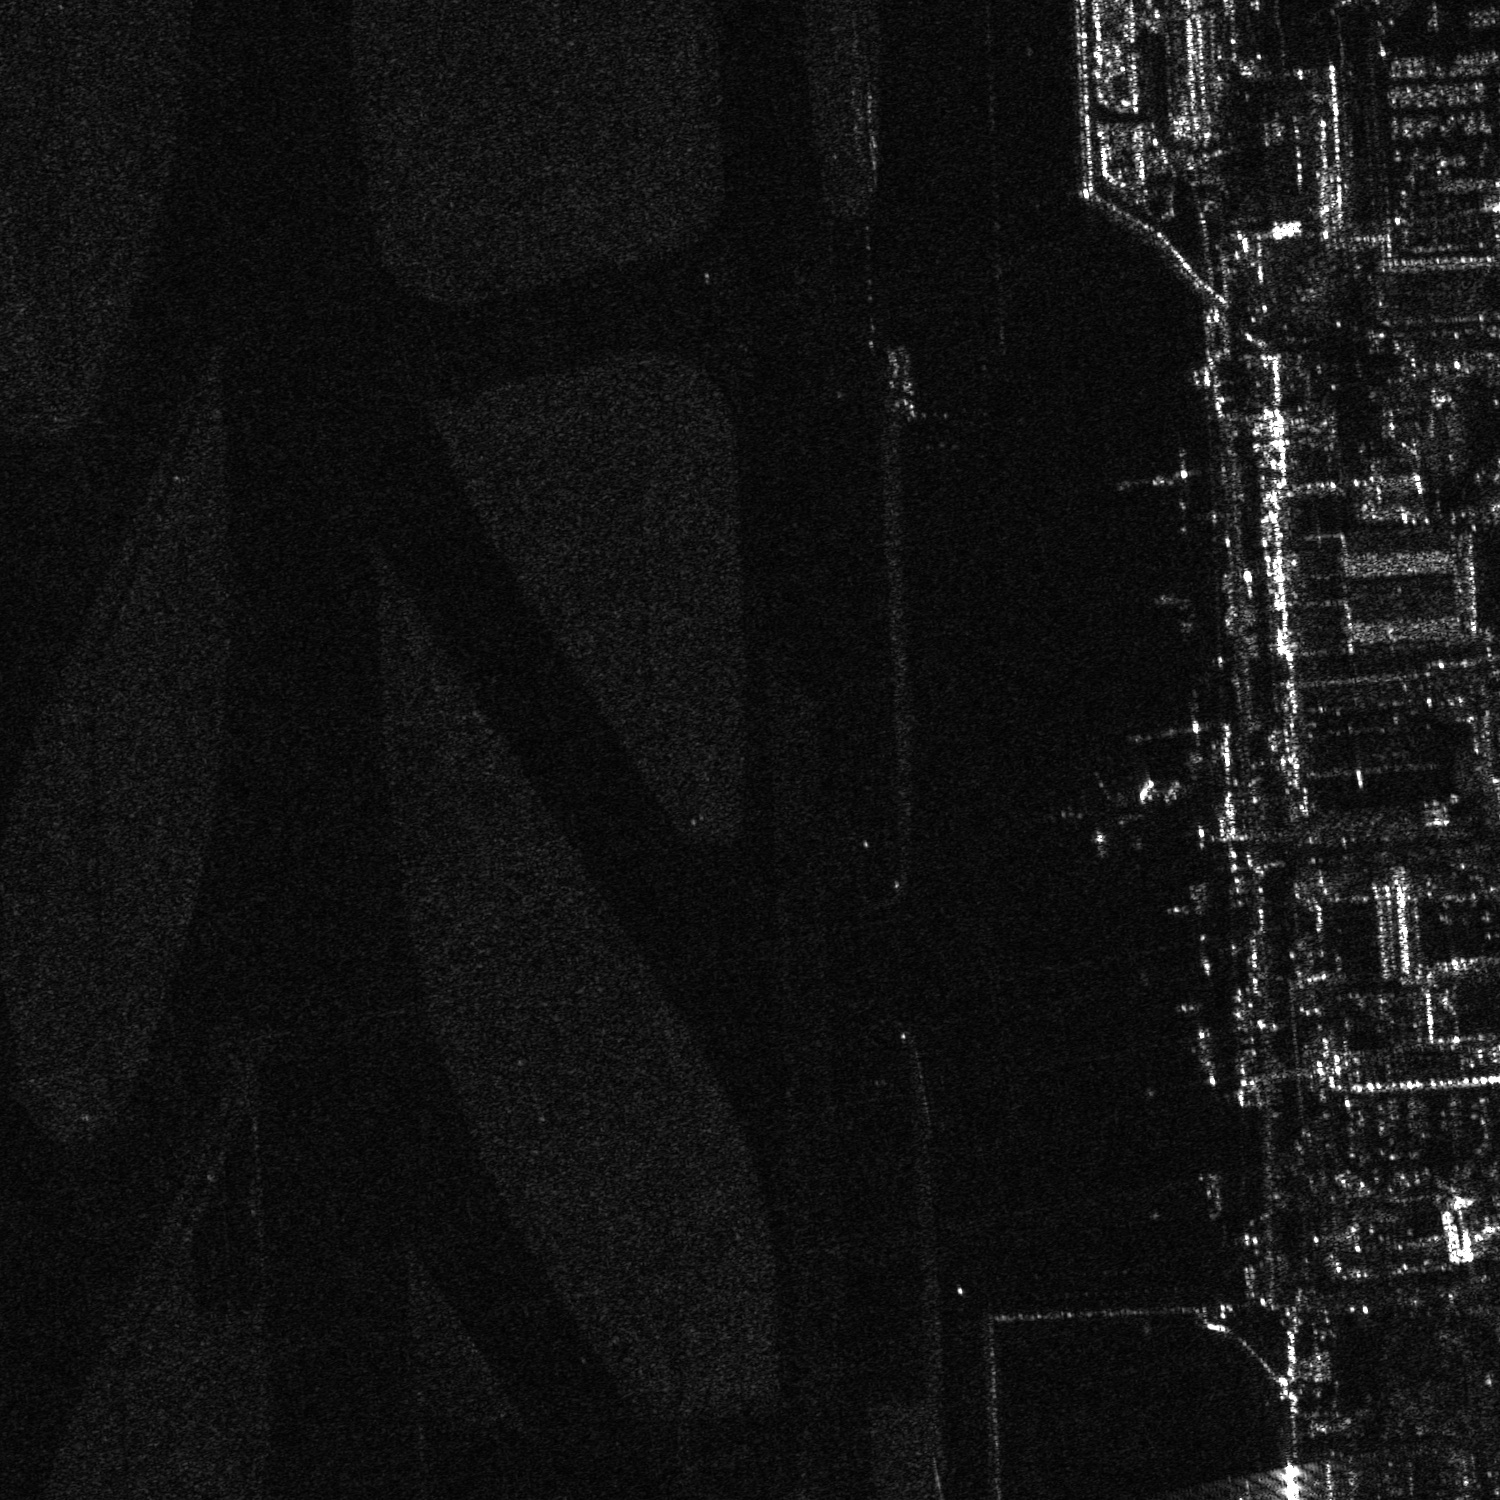A320/321: (1129, 691, 1218, 758)
other: (1111, 434, 1213, 532), (1049, 773, 1148, 854)
